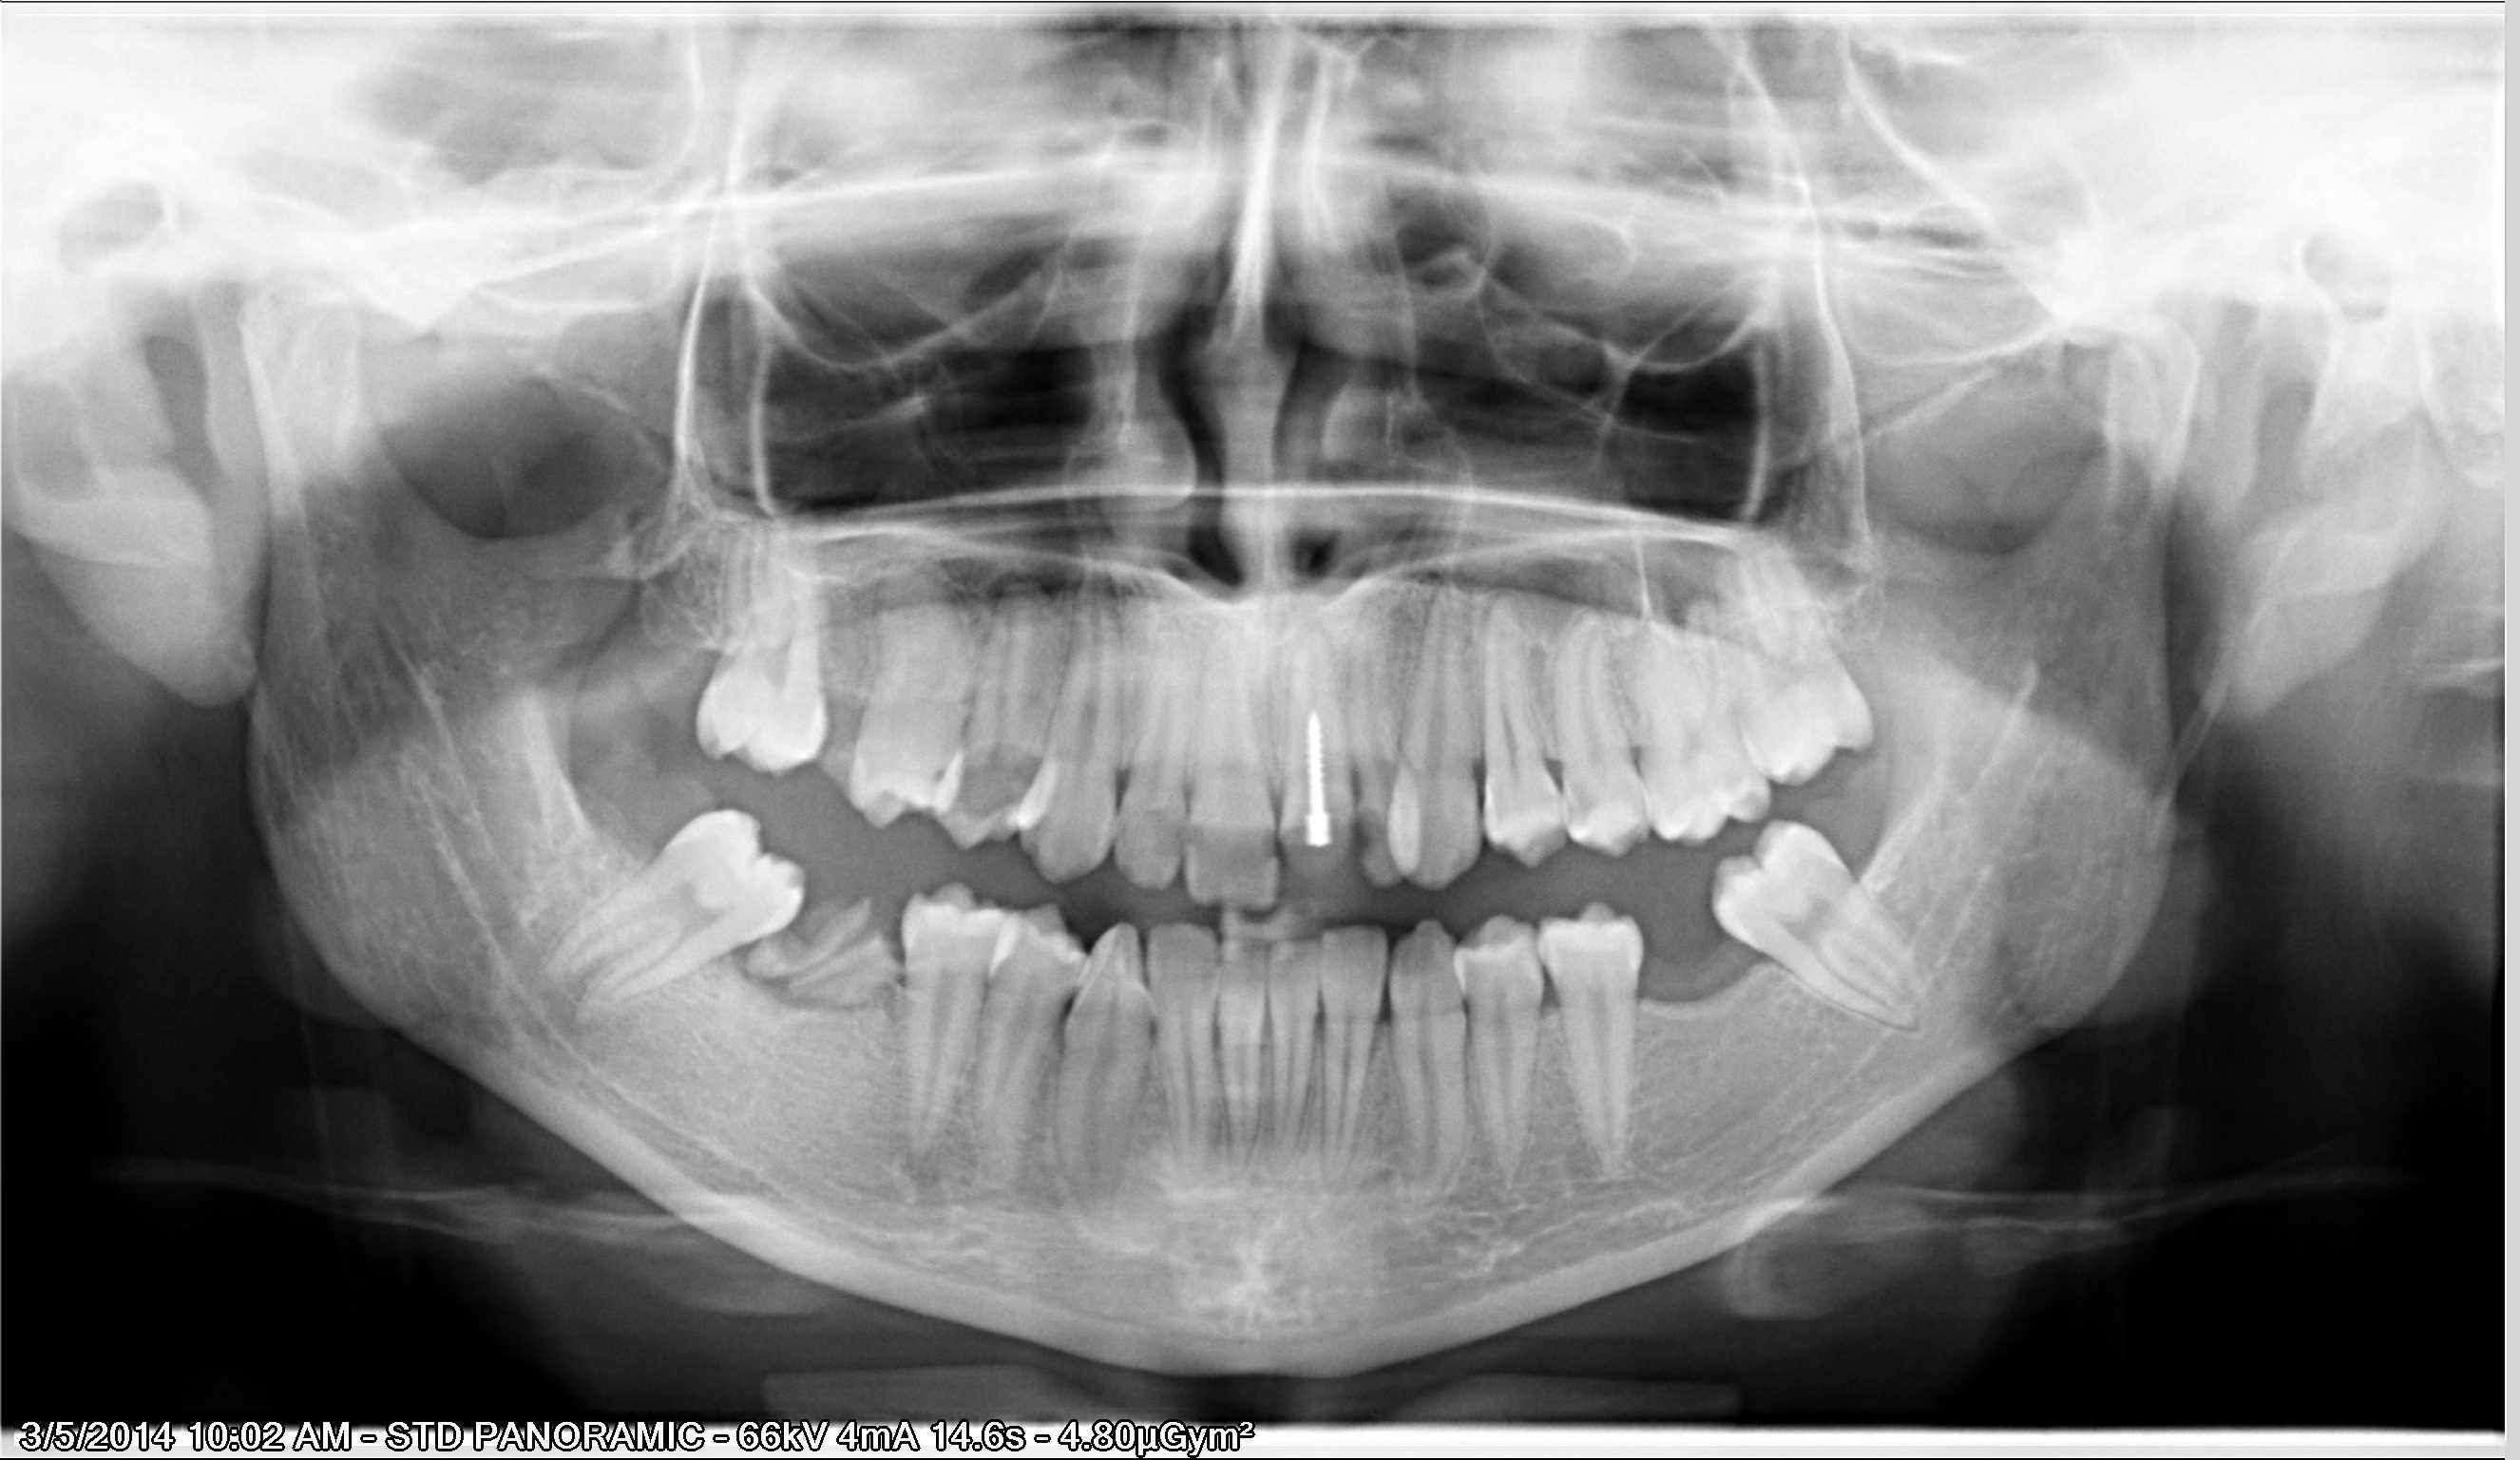CAR: (944, 720, 1048, 831), (1350, 787, 1401, 879), (1178, 789, 1211, 874), (1237, 819, 1272, 879)
ROT: (723, 890, 890, 984), (777, 919, 914, 1029)
